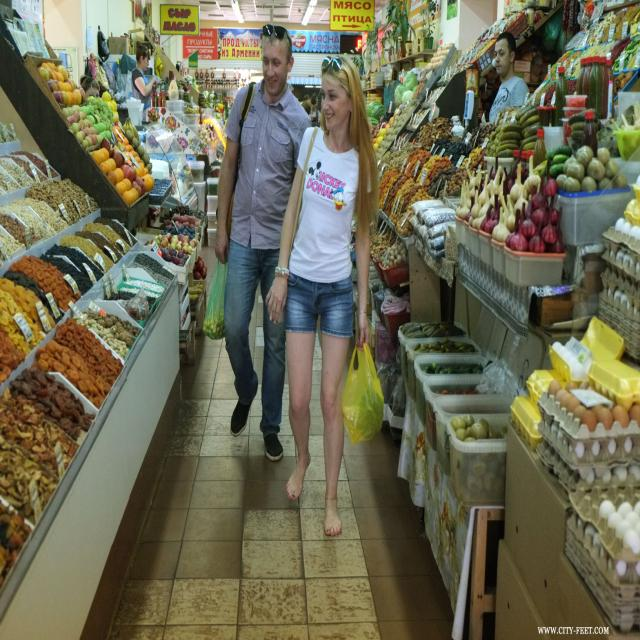Barefoots: (286, 451, 311, 500), (324, 498, 342, 536)
